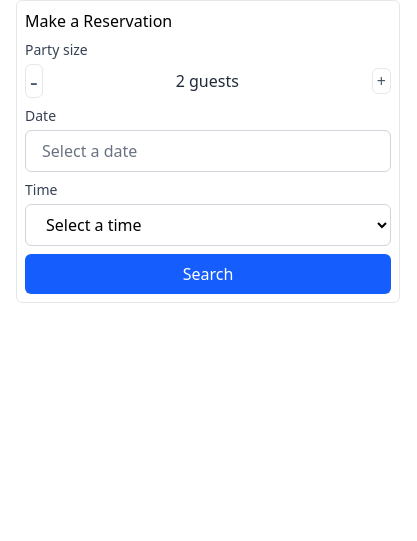
Test: MakeReservation › shows calendar when date button is clicked
# Use the first one
Click the button with test id "date-button" at (90, 151), box [25,130,391,172]
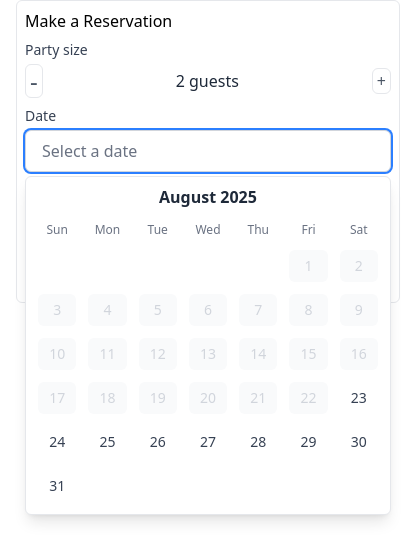
Expected: the text "Sun" is shown, [46,221,68,238]
Expected: the text "Mon" is shown, [95,221,120,238]
Expected: the text "Tue" is shown, [148,221,168,238]
